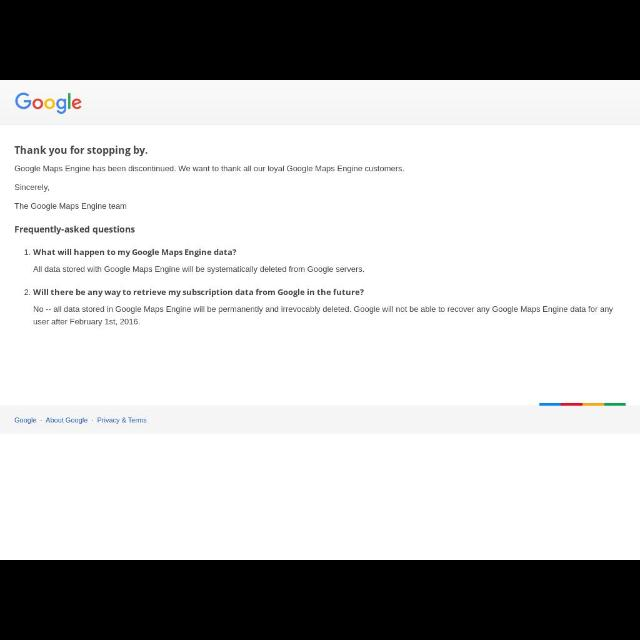image: (13, 91, 82, 115)
text: (23, 288, 615, 326), (23, 248, 365, 276), (12, 163, 404, 174), (14, 182, 130, 212), (14, 145, 150, 157), (15, 226, 137, 234), (97, 418, 147, 424), (46, 418, 88, 424), (15, 416, 38, 424)
